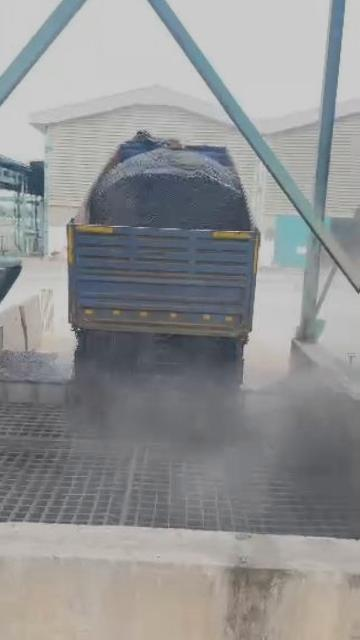gravel: (85, 146, 252, 230), (75, 331, 243, 387), (0, 350, 71, 382)
